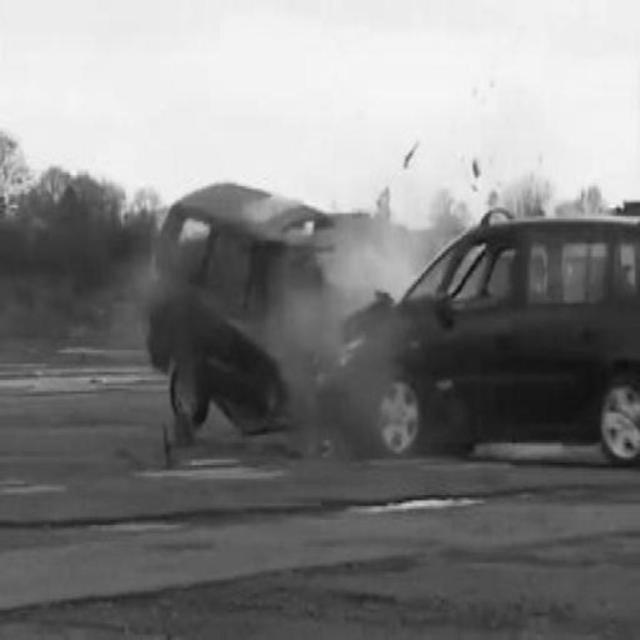accident: (146, 184, 640, 470)
